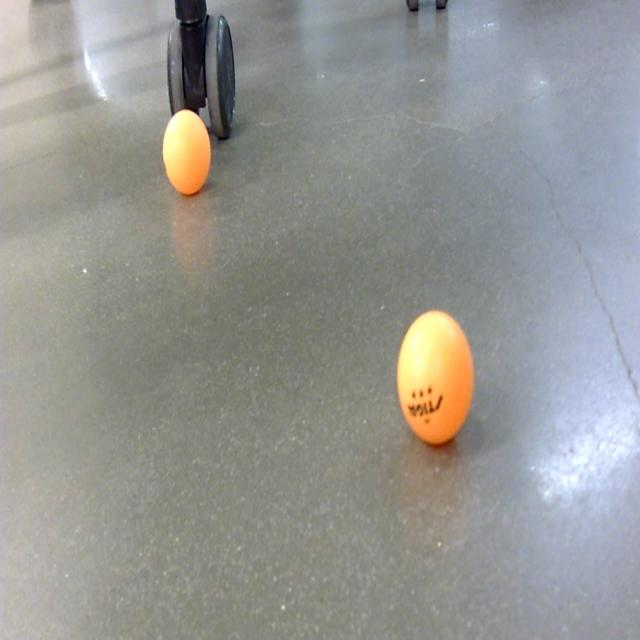ball: (395, 306, 476, 446), (161, 108, 212, 198)
